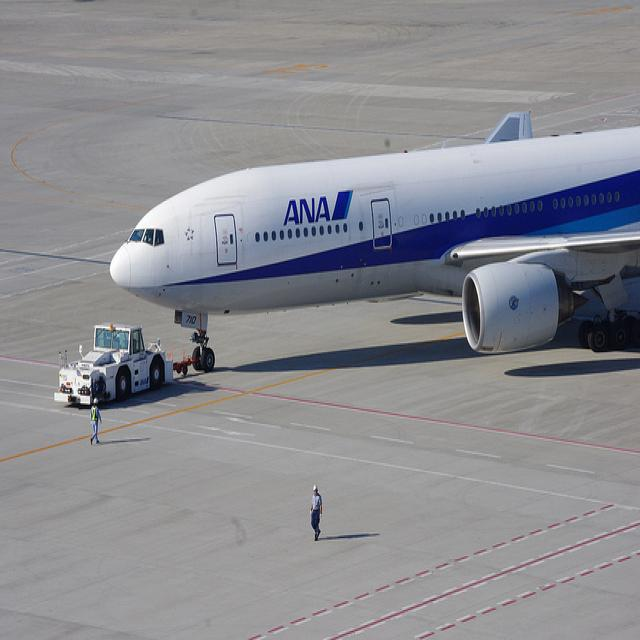Vehicle: (54, 321, 200, 406)
